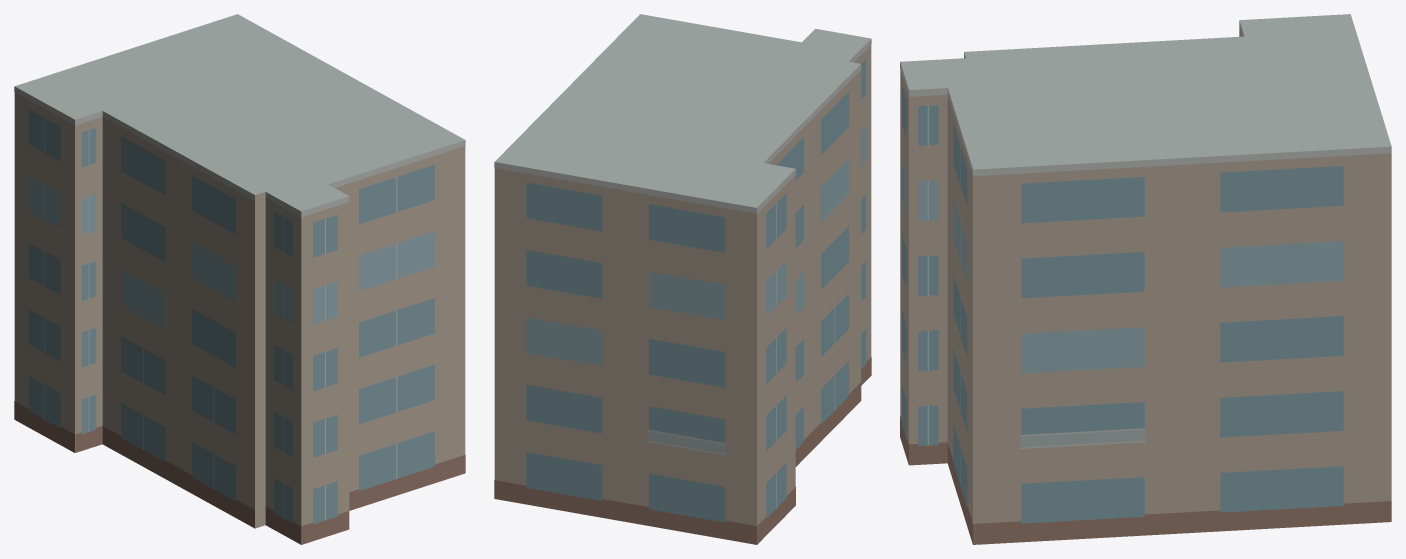
Rendered from survey-upis-32620228.glb.
The picture shows the model from 3 angles, left to right: view 1: azimuth 30°, elevation 25°; view 2: azimuth 150°, elevation 25°; view 3: azimuth 270°, elevation 25°; orthographic projection. The views are drawn at different scales.
Parts seen in each view (by area): view 1: survey-upis-32620228.tmp; view 2: survey-upis-32620228.tmp; view 3: survey-upis-32620228.tmp.
Part boxes in pixels (left/top/right/bottom): survey-upis-32620228.tmp: left=14, top=14, right=465, bottom=544; survey-upis-32620228.tmp: left=494, top=14, right=871, bottom=544; survey-upis-32620228.tmp: left=900, top=14, right=1391, bottom=544.
Bounding box in the file's own units: 12.28 × 13.8 × 16.39.
